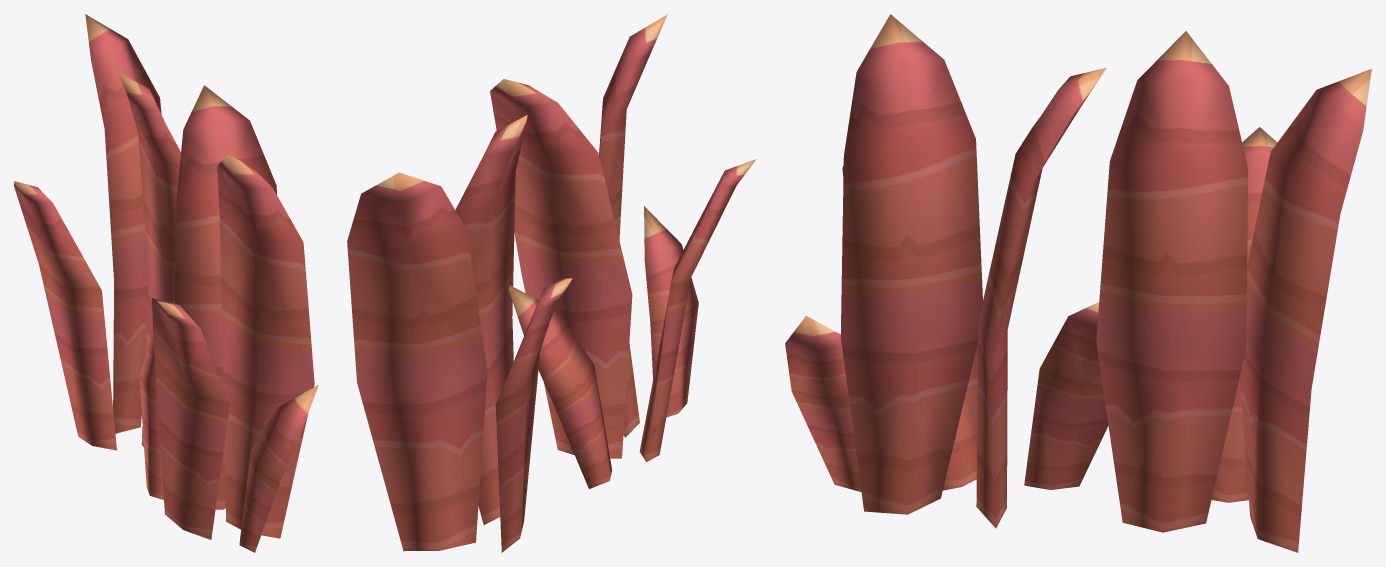
Rendered from Herb.fbx.
The picture shows the model from 3 angles, left to right: view 1: azimuth 30°, elevation 25°; view 2: azimuth 150°, elevation 25°; view 3: azimuth 270°, elevation 25°; orthographic projection. The views are drawn at different scales.
Visible parts, largest first — view 1: Merged Objects.001; view 2: Merged Objects.001; view 3: Merged Objects.001.
Part boxes in pixels (x1,y1,x2,y2): Merged Objects.001: (14, 14, 318, 552); Merged Objects.001: (347, 14, 756, 552); Merged Objects.001: (785, 14, 1371, 552).
Size of the model in its own units: 0.4752 by 0.9456 by 1.03.
